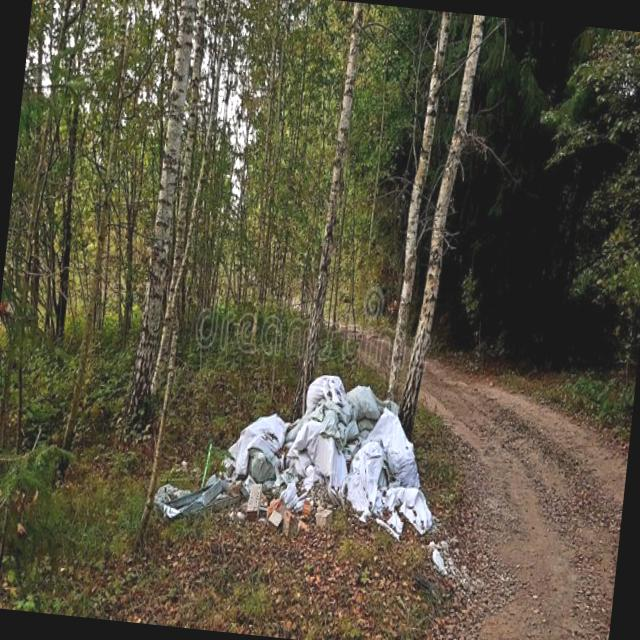garbage: (166, 360, 456, 556)
